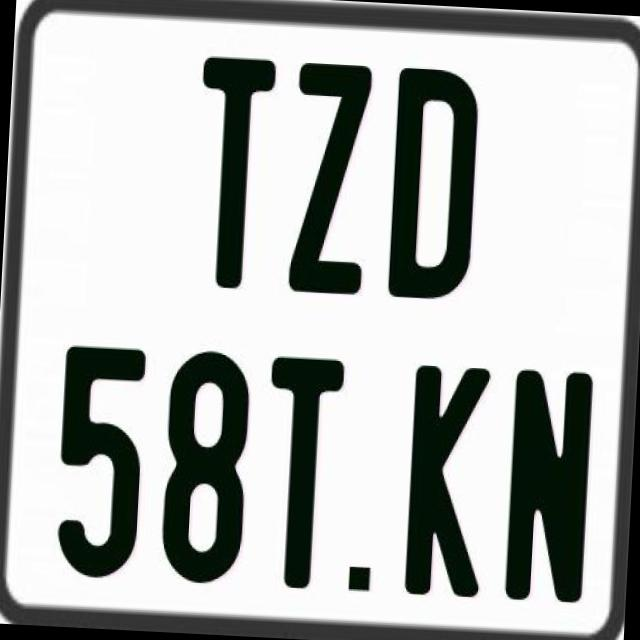5: (51, 347, 150, 584)
8: (156, 348, 256, 592)
D: (384, 66, 476, 305)
K: (400, 365, 490, 601)
N: (500, 368, 596, 611)
T: (256, 354, 344, 596), (190, 58, 278, 296)
Z: (286, 61, 372, 294)
